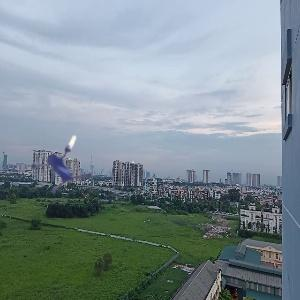drone: (24, 120, 111, 207)
